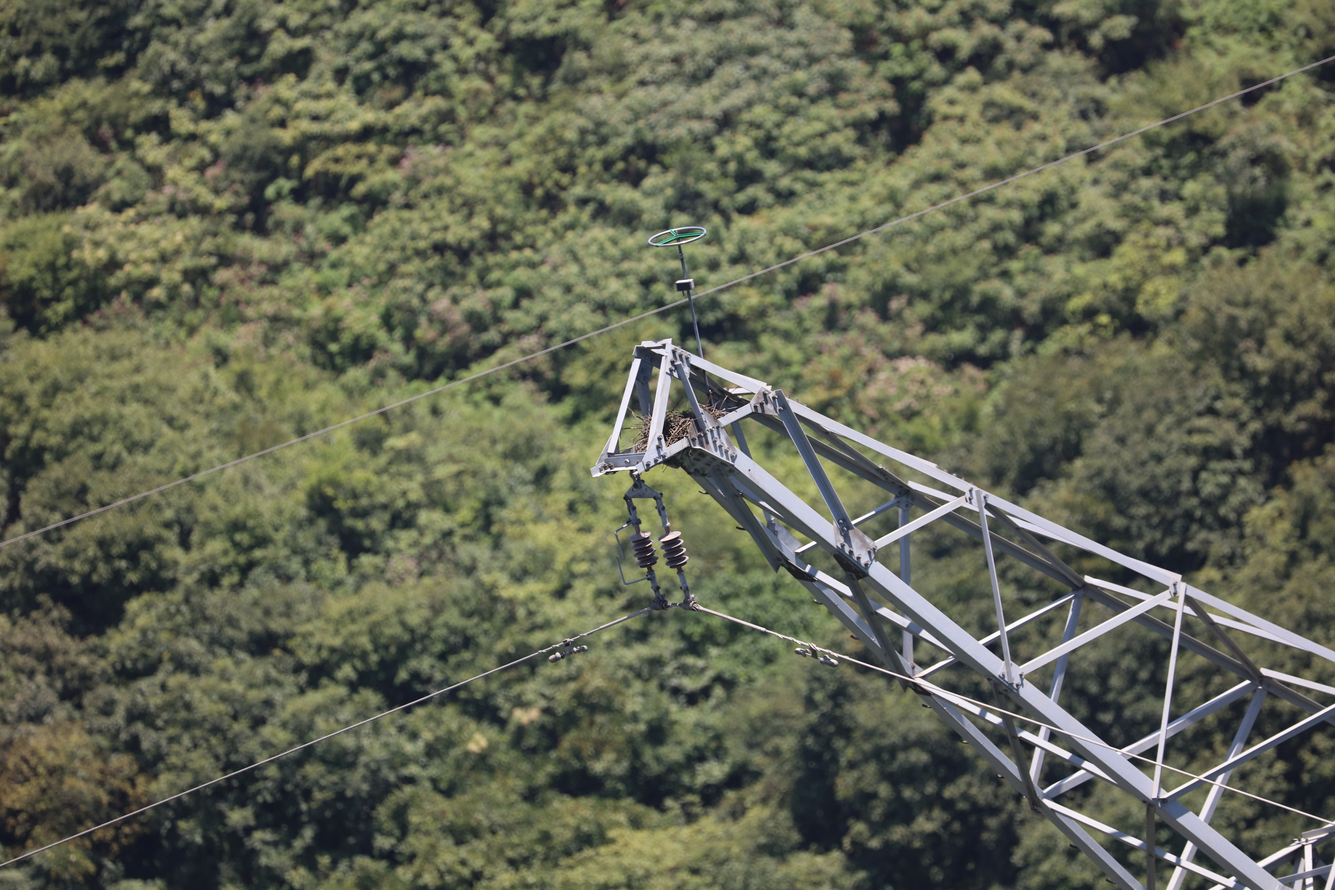damper: (793, 641, 841, 669), (545, 637, 590, 664)
